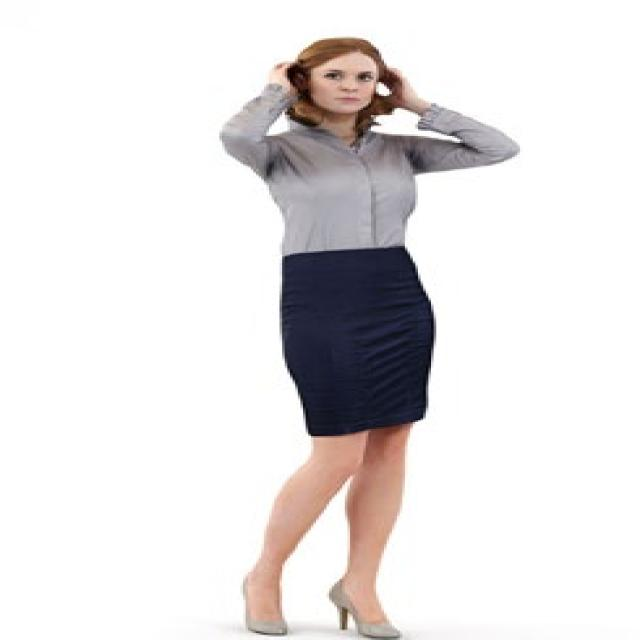standing: (217, 35, 528, 640)
